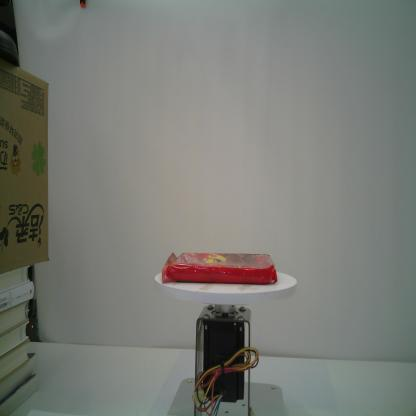Dessert: (160, 250, 278, 285)
